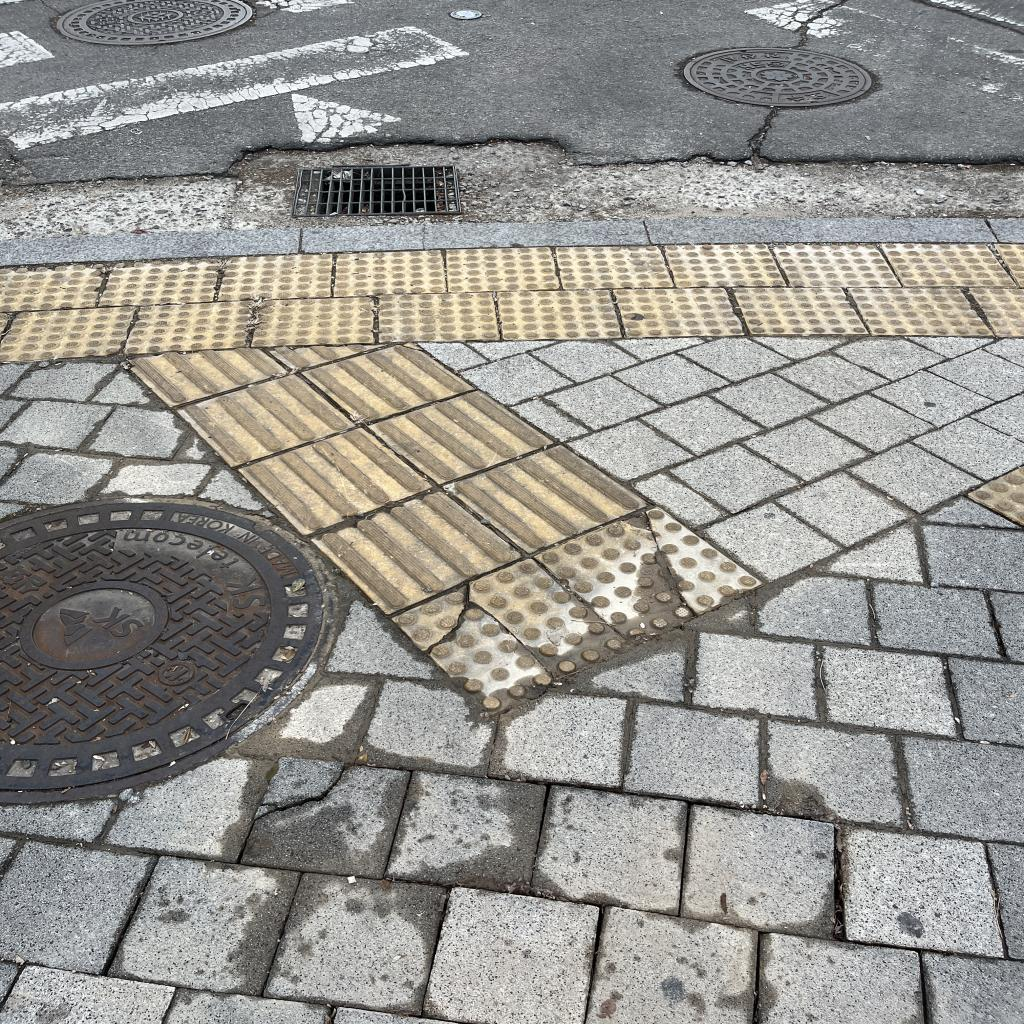Stop block broken: (396, 533, 631, 733), (535, 472, 761, 666)
Stop block normal: (123, 301, 257, 352), (252, 296, 378, 346)
Straight block normal: (315, 468, 521, 627), (449, 422, 648, 570), (240, 409, 429, 547), (371, 370, 552, 496)
